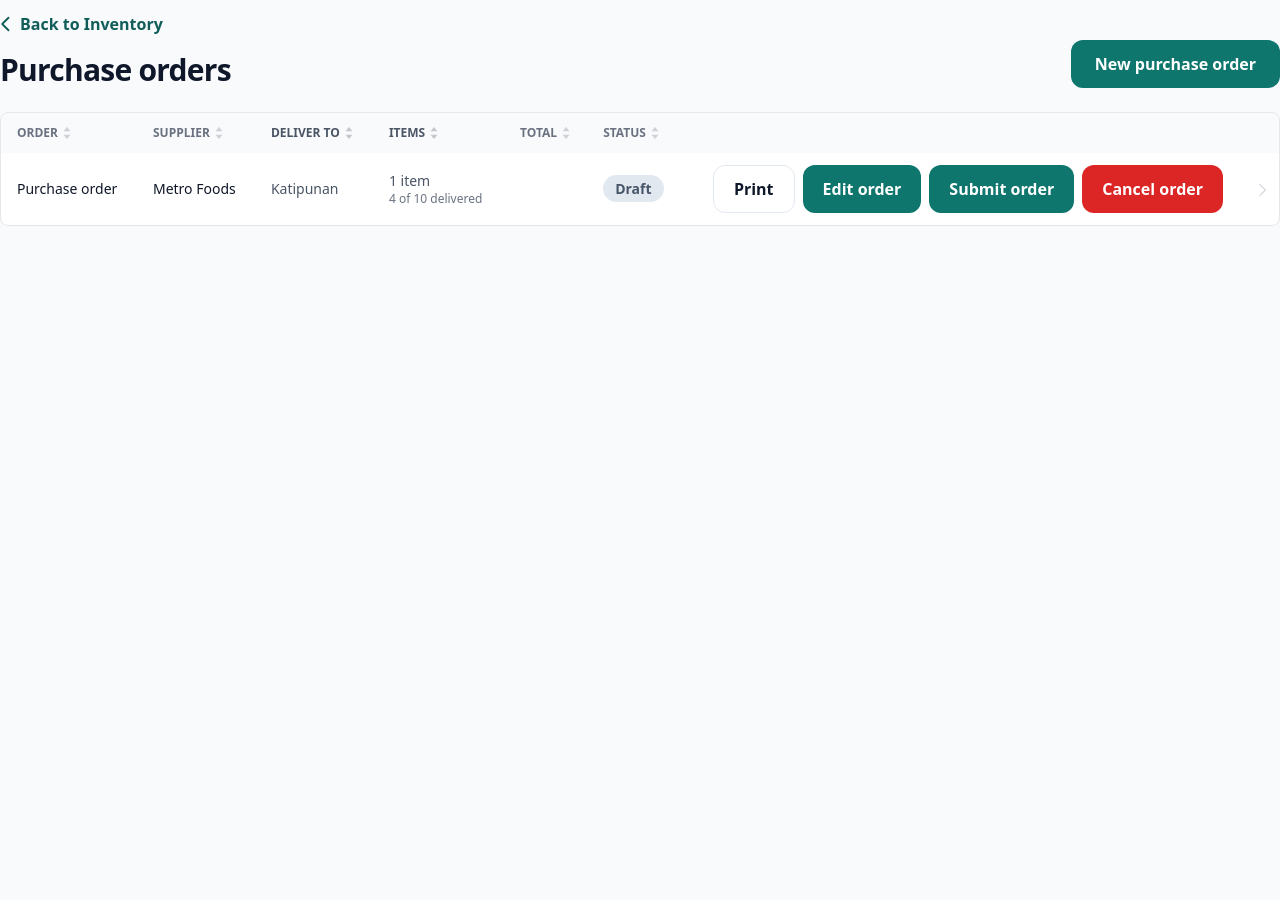
Test: PurchaseOrdersPage › backing out of the cancel dialog changes nothing
The image size is (1280, 900).
Click the button "Cancel order": (1153, 189) [1082, 165, 1223, 213]
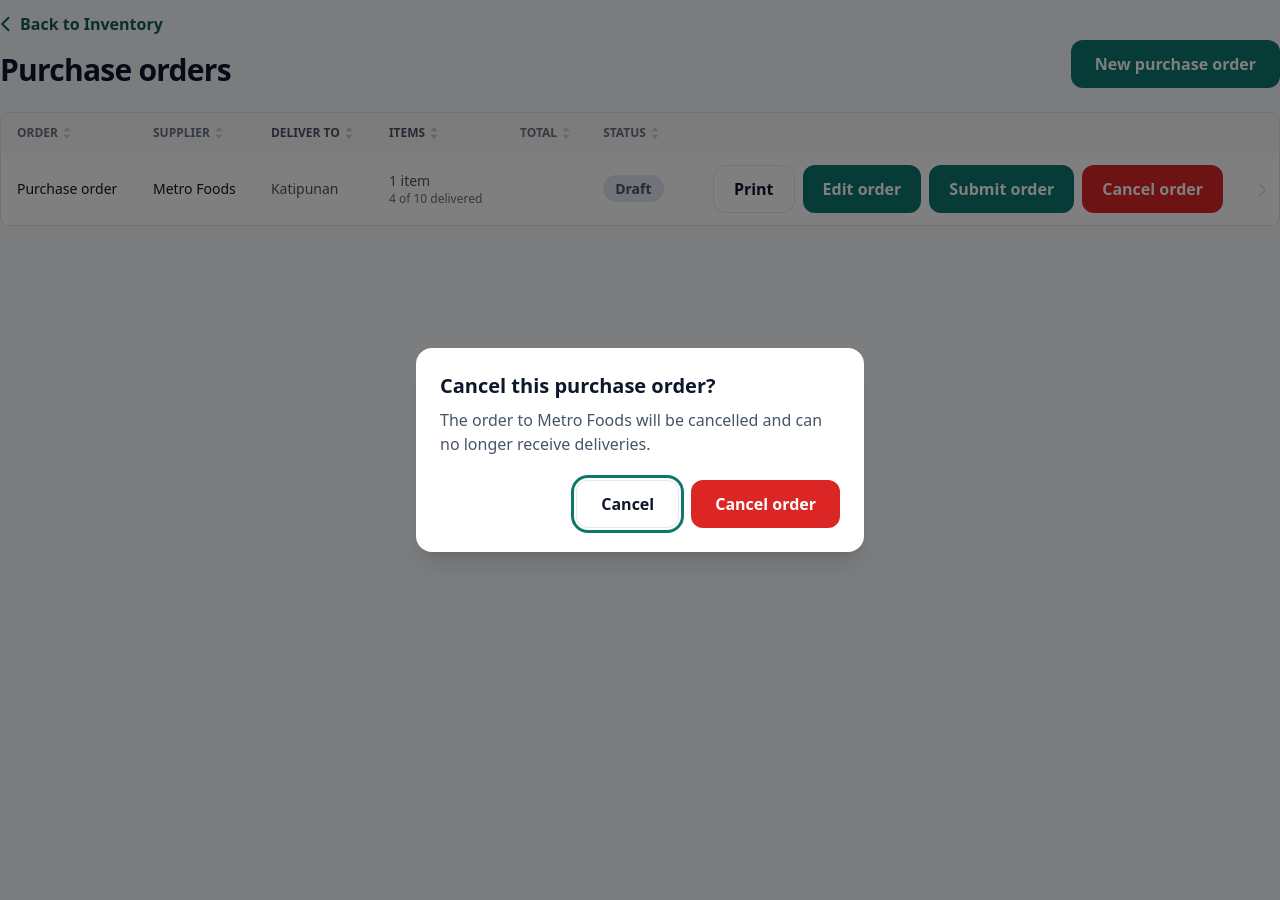
Click the button "Cancel": (628, 504) [576, 480, 679, 528]
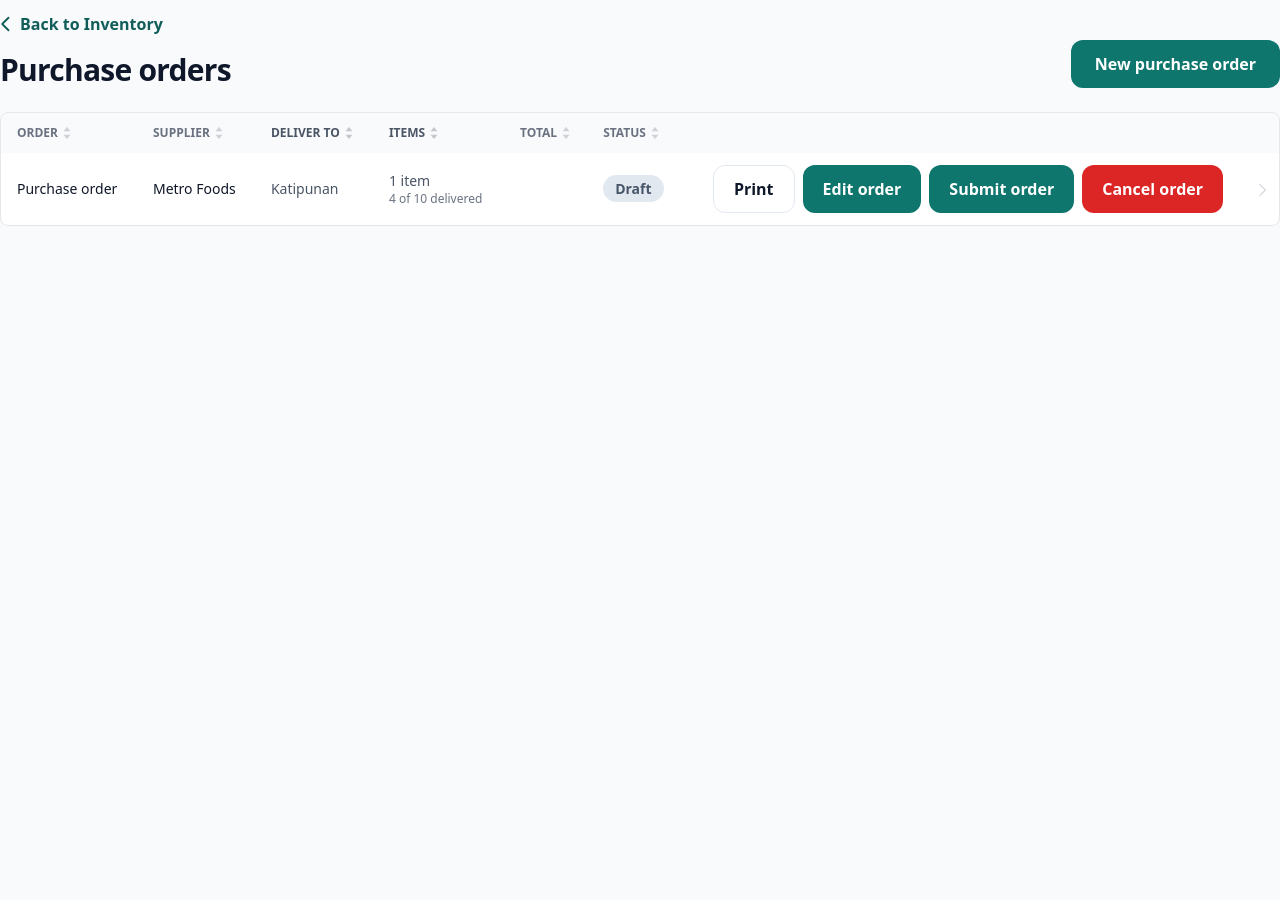
Now the dialog is gone
